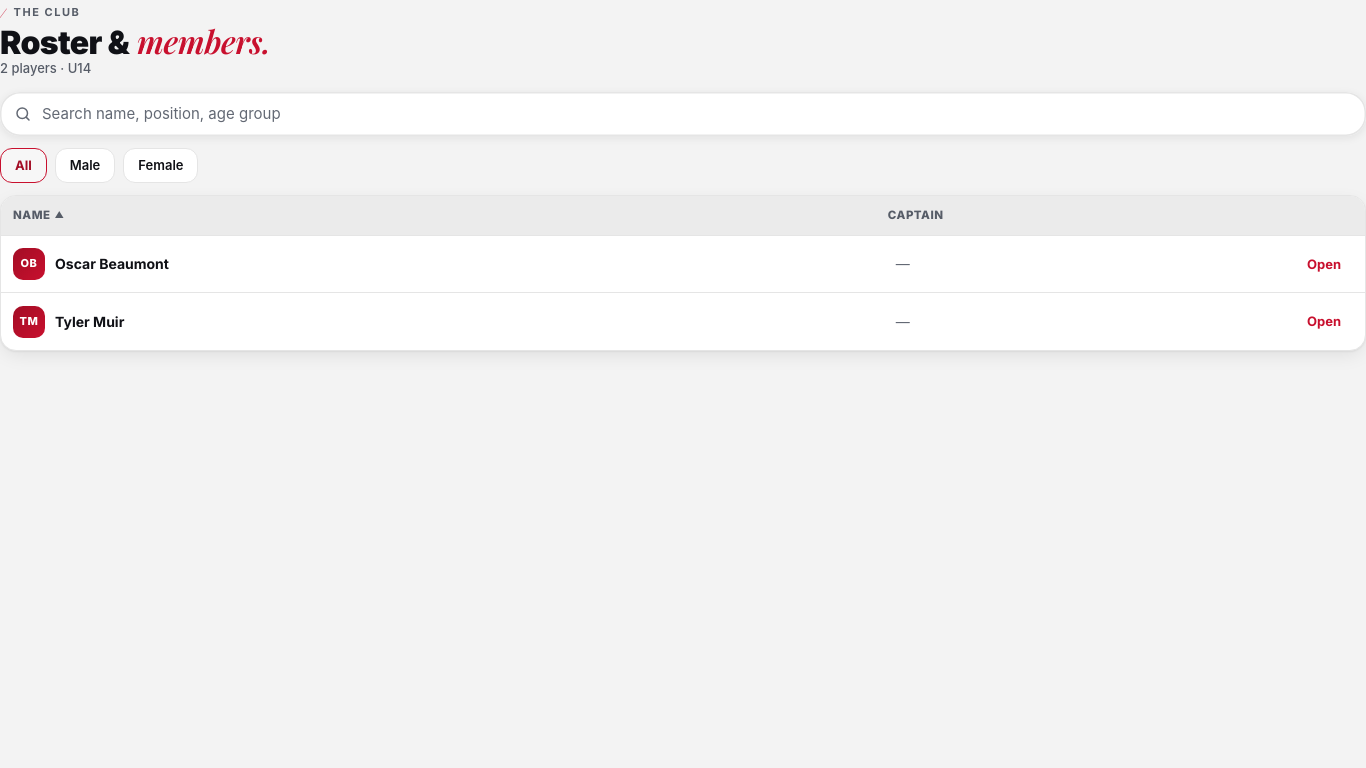
it: Self-service profile editing › offers a parent one action on their own child, not Edit and Delete
Step 1. Click the button "TM Tyler Muir" → (69,322), box left=13, top=306, right=124, bottom=338
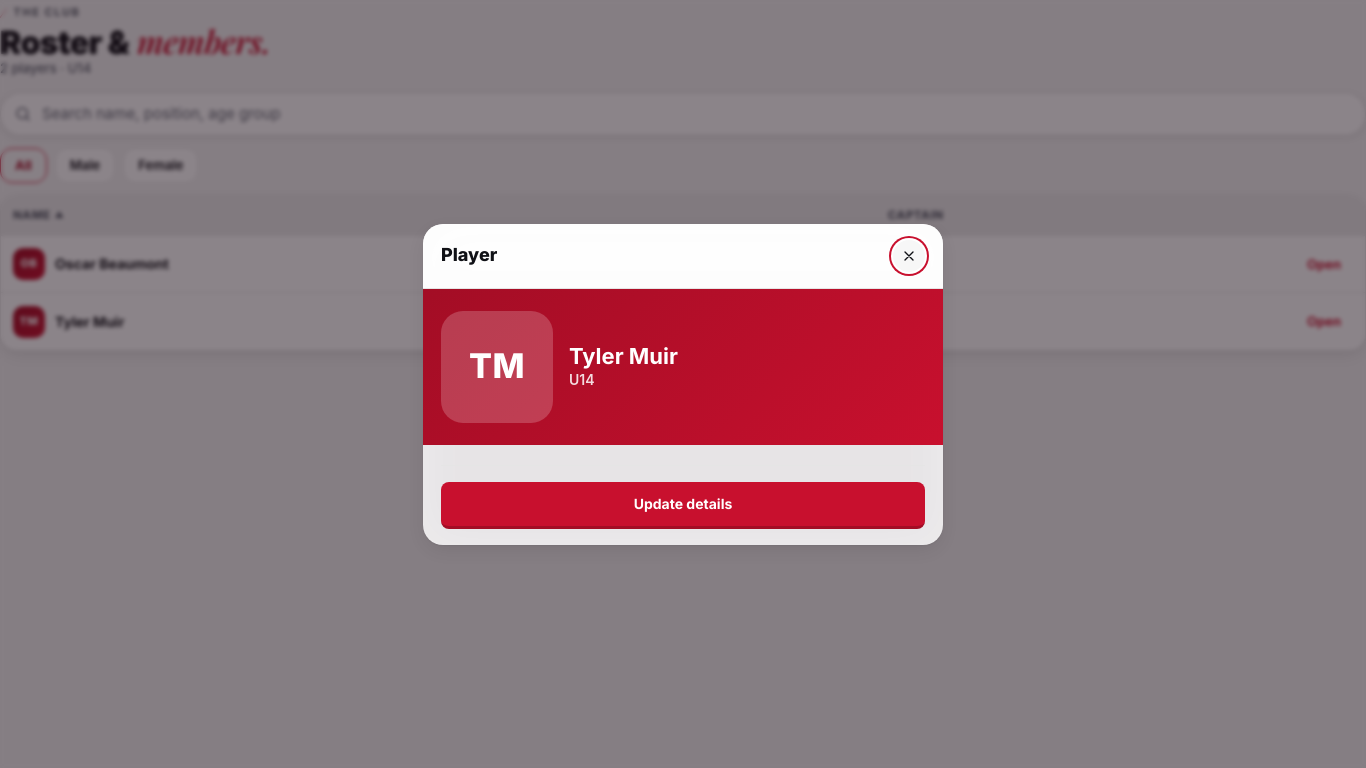
Expected: the dialog is shown, left=423, top=224, right=943, bottom=544
Expected: the button "Update details" is shown, left=441, top=482, right=925, bottom=528
